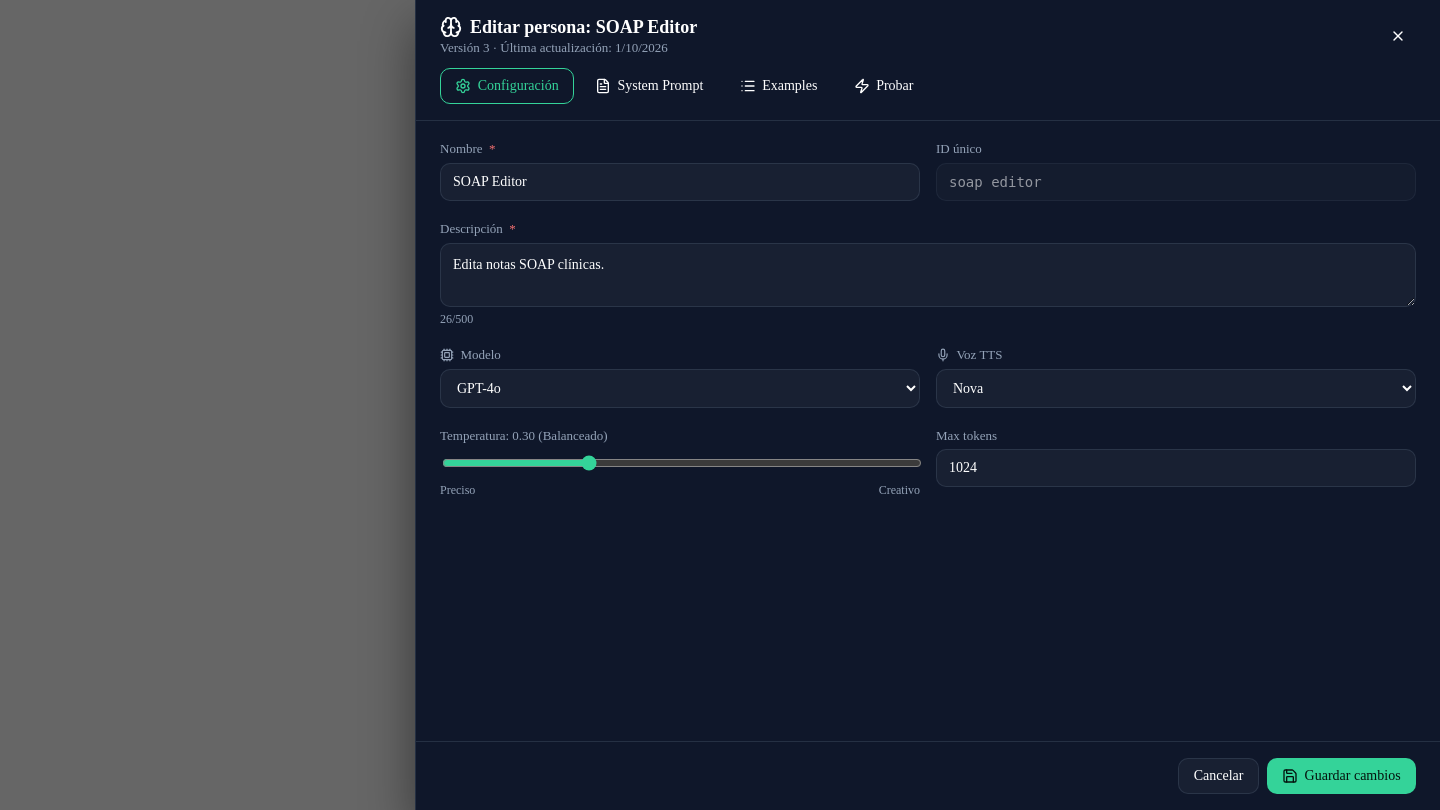
Test: PersonaEditor › shows no tokens or cost when the engine does not report them
Click the tab "Probar" at (884, 86), box [838,68,929,104]
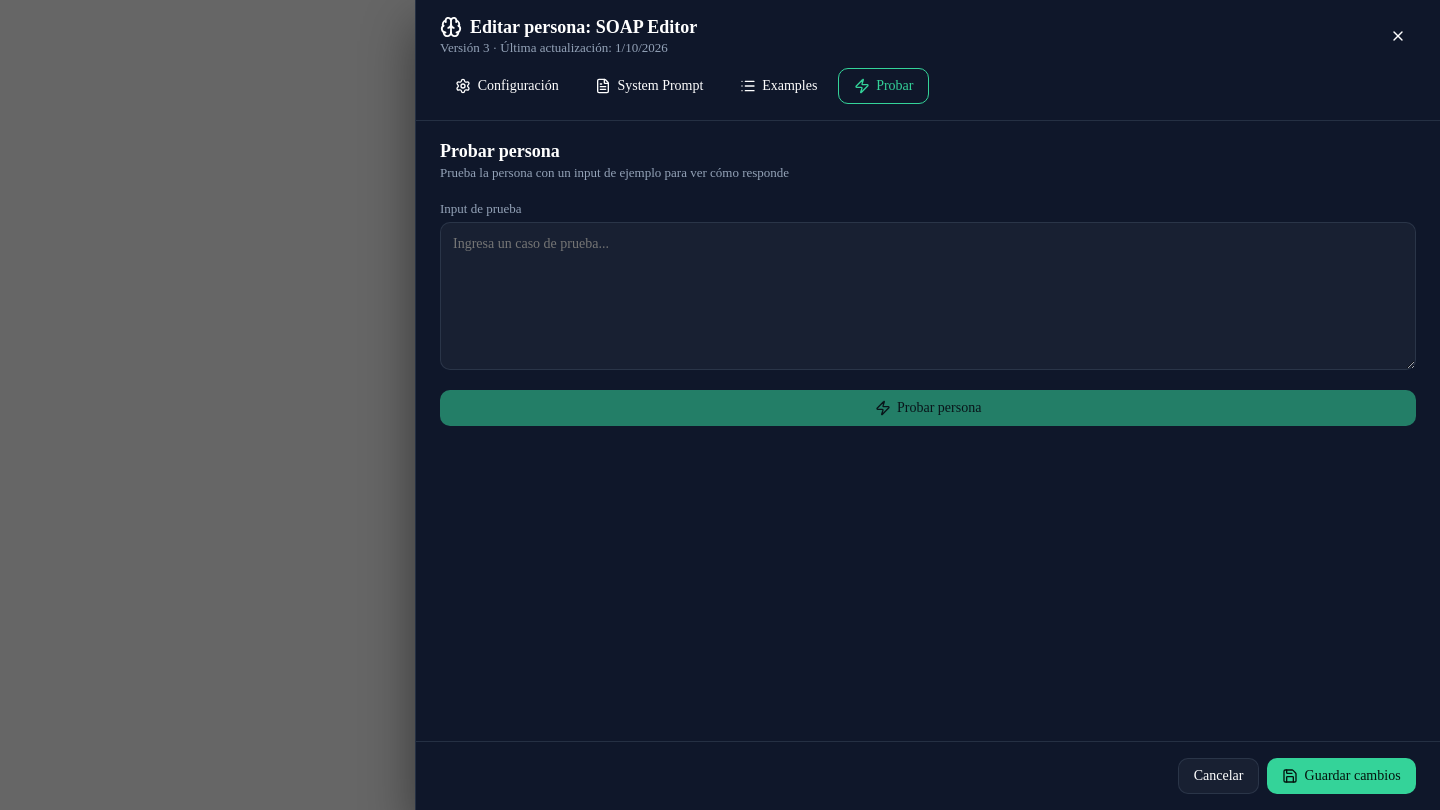
Type "hola" into the text box labelled "Input de prueba" at (928, 296), box [440,222,1416,370]
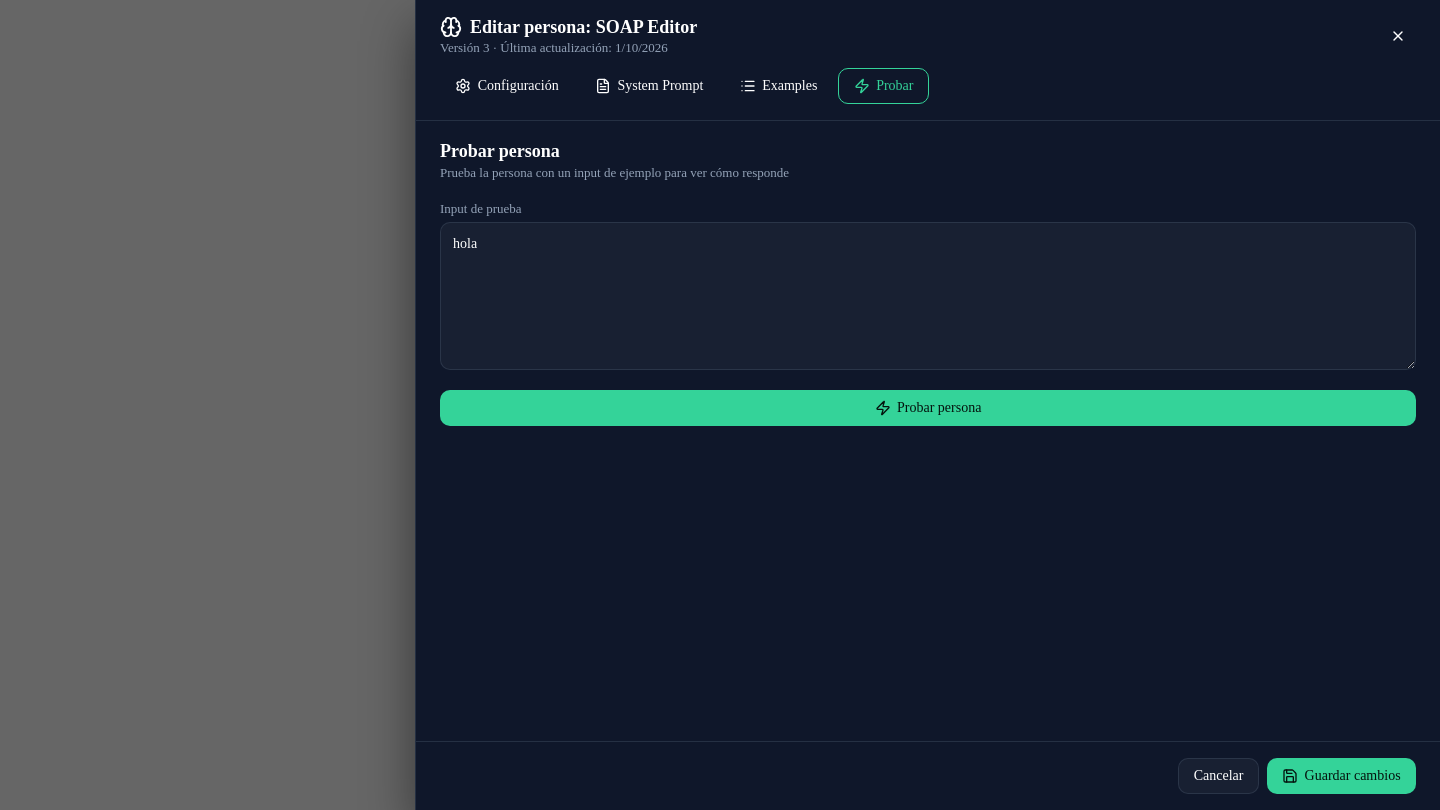
Click the button "Probar persona" at (928, 408), box [440,390,1416,426]
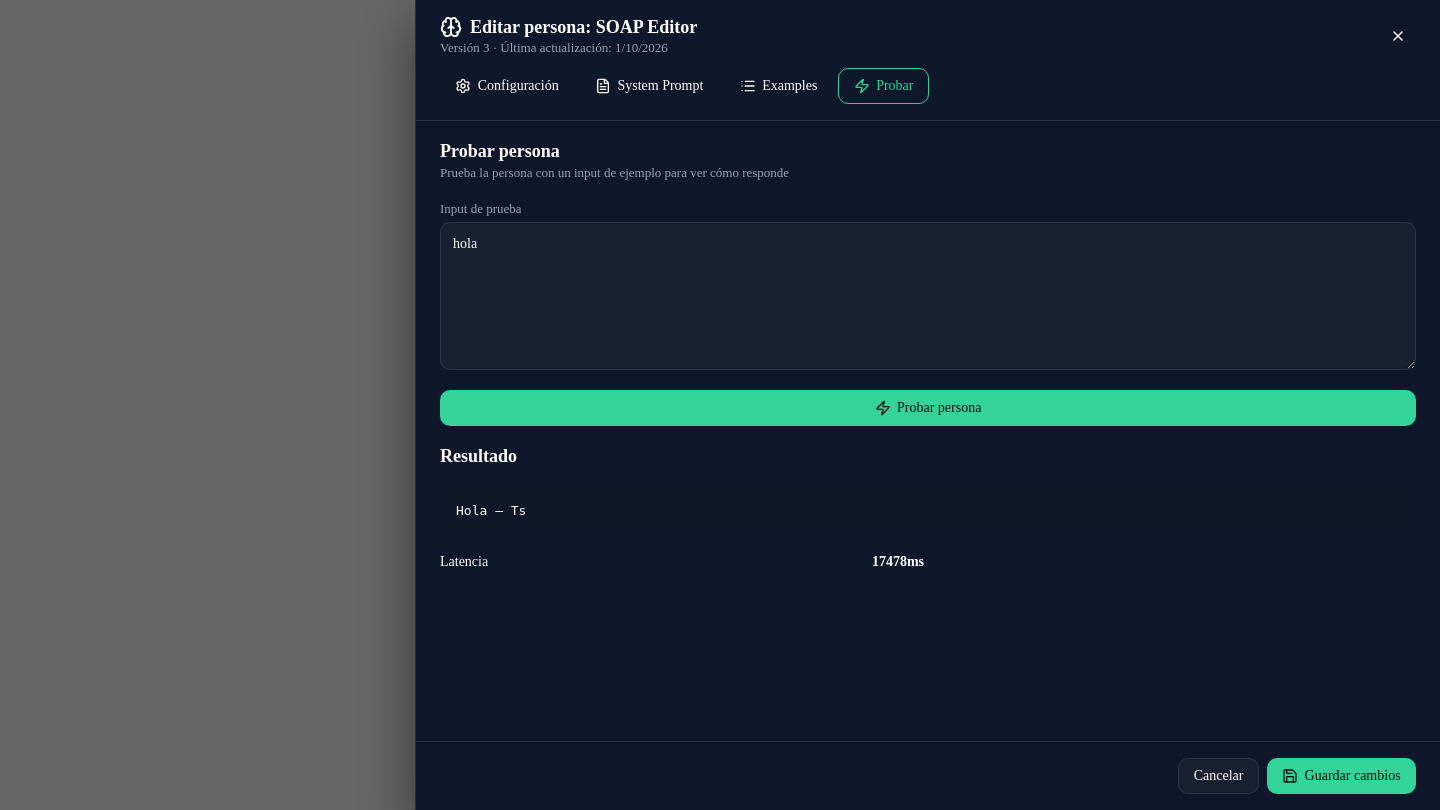
Expected: the text "tokens" is not shown
Now the text with test id "persona-test-output" reads "Hola — Ts", box [456,503,526,518]
